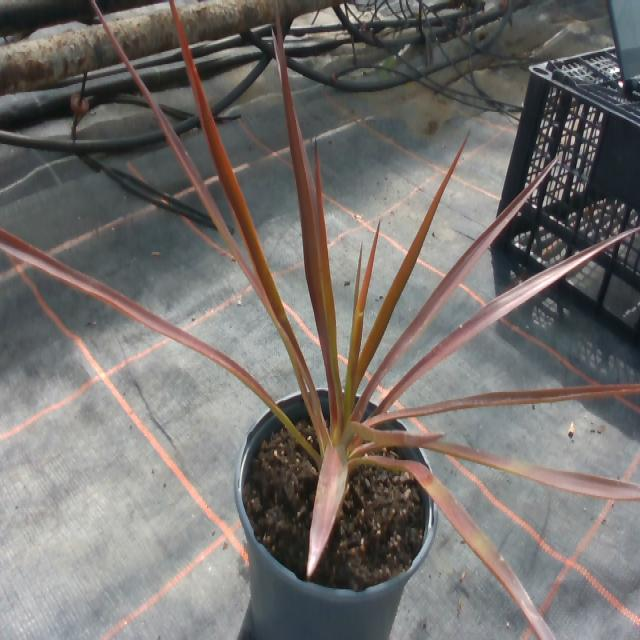Yucca-aloifolia: (93, 1, 304, 376), (0, 229, 289, 421), (170, 0, 310, 391), (380, 231, 636, 409), (365, 161, 556, 397), (356, 456, 554, 639), (274, 5, 337, 424), (358, 139, 465, 381), (427, 440, 639, 499), (367, 384, 639, 427), (316, 144, 341, 417), (347, 225, 378, 412), (307, 445, 347, 576), (353, 423, 443, 447)
